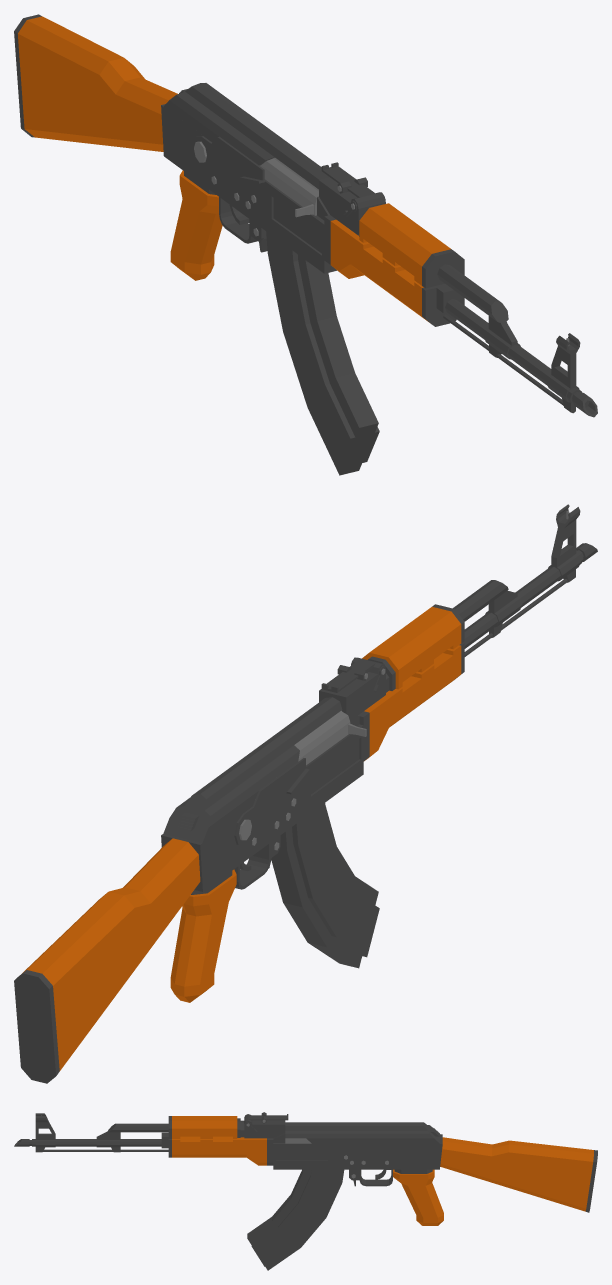
The model's file is assault_rifle.glb.
3 renders of one model, top to bottom at view 1: azimuth 30°, elevation 25°; view 2: azimuth 150°, elevation 25°; view 3: azimuth 270°, elevation 25°, orthographic. The views are drawn at different scales.
Parts seen in each view (by area): view 1: Cube.010, Cube.024, Cube.014, Cube.017, Cube.012, Cube.003, Cube.004, Cylinder.023, Cube.015, Cylinder.021, Cube.018, Cylinder.002 (+6 smaller); view 2: Cube.010, Cube.024, Cube.014, Cube.017, Cube.012, Cube.011, Cube.004, Cube.003, Cylinder.021, Cube.015, Cylinder.023, Cube.018 (+3 smaller); view 3: Cube.010, Cube.024, Cube.014, Cube.017, Cube.003, Cube.012, Cube.004, Cube.015, Cylinder.023, Cylinder.002, Cube.007, Cube.023 (+2 smaller).
Boxes of the visible parts, bbox=[...] form: Cube.010: bbox=[18, 16, 177, 151]; Cube.024: bbox=[266, 231, 379, 475]; Cube.014: bbox=[161, 104, 336, 273]; Cube.017: bbox=[163, 83, 329, 189]; Cube.012: bbox=[170, 170, 222, 280]; Cube.003: bbox=[330, 219, 427, 321]; Cube.004: bbox=[359, 203, 450, 285]; Cylinder.023: bbox=[445, 299, 597, 417]; Cube.015: bbox=[317, 177, 385, 235]; Cylinder.021: bbox=[193, 136, 264, 183]; Cube.018: bbox=[259, 157, 318, 217]; Cylinder.002: bbox=[437, 264, 508, 323]; Cube.010: bbox=[22, 838, 200, 1070]; Cube.024: bbox=[271, 803, 379, 968]; Cube.014: bbox=[161, 724, 363, 891]; Cube.017: bbox=[163, 697, 342, 843]; Cube.012: bbox=[170, 869, 236, 1002]; Cube.011: bbox=[14, 970, 59, 1083]; Cube.004: bbox=[362, 607, 461, 689]; Cube.003: bbox=[364, 645, 461, 760]; Cylinder.021: bbox=[234, 758, 309, 844]; Cube.015: bbox=[319, 657, 385, 726]; Cylinder.023: bbox=[463, 543, 597, 648]; Cube.018: bbox=[294, 710, 366, 765]; Cube.010: bbox=[440, 1137, 593, 1211]; Cube.024: bbox=[247, 1169, 344, 1270]; Cube.014: bbox=[273, 1134, 442, 1169]; Cube.017: bbox=[285, 1122, 440, 1143]; Cube.003: bbox=[172, 1136, 266, 1165]; Cube.012: bbox=[393, 1169, 443, 1225]; Cube.004: bbox=[172, 1116, 237, 1138]; Cube.015: bbox=[244, 1114, 285, 1142]; Cylinder.023: bbox=[14, 1139, 161, 1146]; Cylinder.002: bbox=[107, 1123, 168, 1132]; Cube.007: bbox=[35, 1113, 55, 1139]; Cube.023: bbox=[349, 1169, 392, 1186].
Size of the model in its own units: 0.57 by 2.9 by 9.97.
